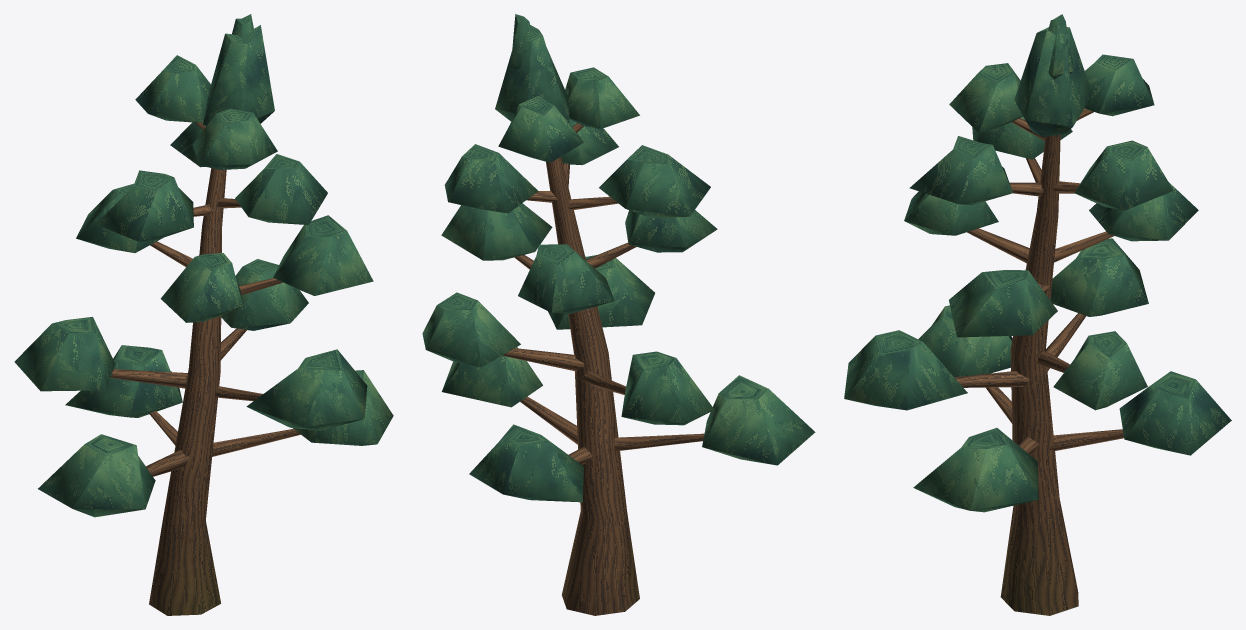
Rendered from tree-pine-lod1.glb.
The picture shows the model from 3 angles, left to right: view 1: azimuth 30°, elevation 25°; view 2: azimuth 150°, elevation 25°; view 3: azimuth 270°, elevation 25°; orthographic projection. The views are drawn at different scales.
Visible parts, largest first — view 1: Tree_pine; view 2: Tree_pine; view 3: Tree_pine.
Boxes of the visible parts, <box> form: Tree_pine: <box>14,14,393,615</box>; Tree_pine: <box>422,14,815,615</box>; Tree_pine: <box>844,14,1231,615</box>.
Size of the model in its own units: 5.62 by 8.92 by 5.06.
2 materials, 2 textured.
